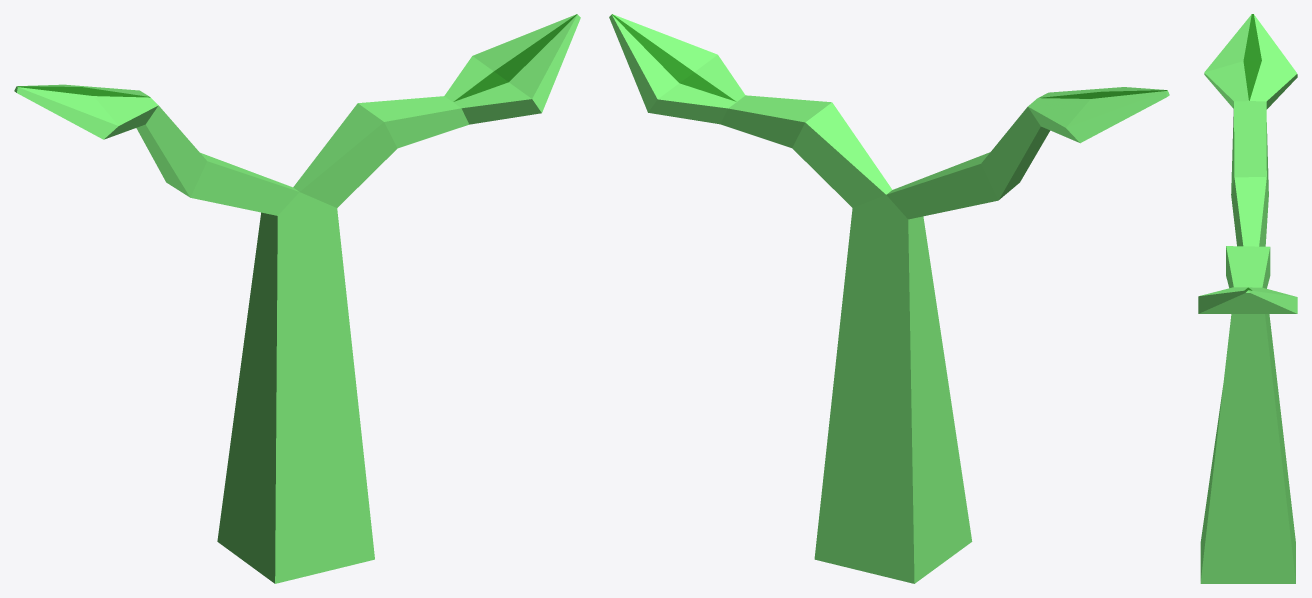
The model's file is plantinha.fbx.
The picture shows the model from 3 angles, left to right: view 1: azimuth 30°, elevation 25°; view 2: azimuth 150°, elevation 25°; view 3: azimuth 270°, elevation 25°; orthographic projection. The views are drawn at different scales.
Visible parts, largest first — view 1: Cube; view 2: Cube; view 3: Cube.
Part boxes in pixels (left/top/right/bottom): Cube: left=14, top=14, right=580, bottom=583; Cube: left=609, top=14, right=1169, bottom=583; Cube: left=1198, top=14, right=1297, bottom=583.
Size of the model in its own units: 8.06 by 7.27 by 1.5.
